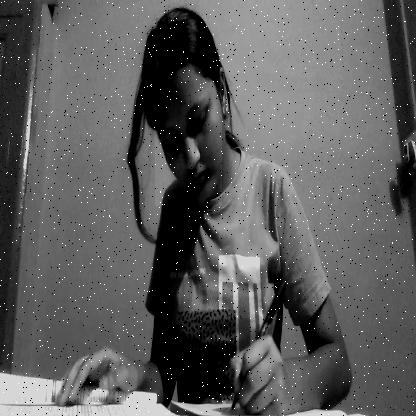Distracted: (155, 58, 222, 206)
